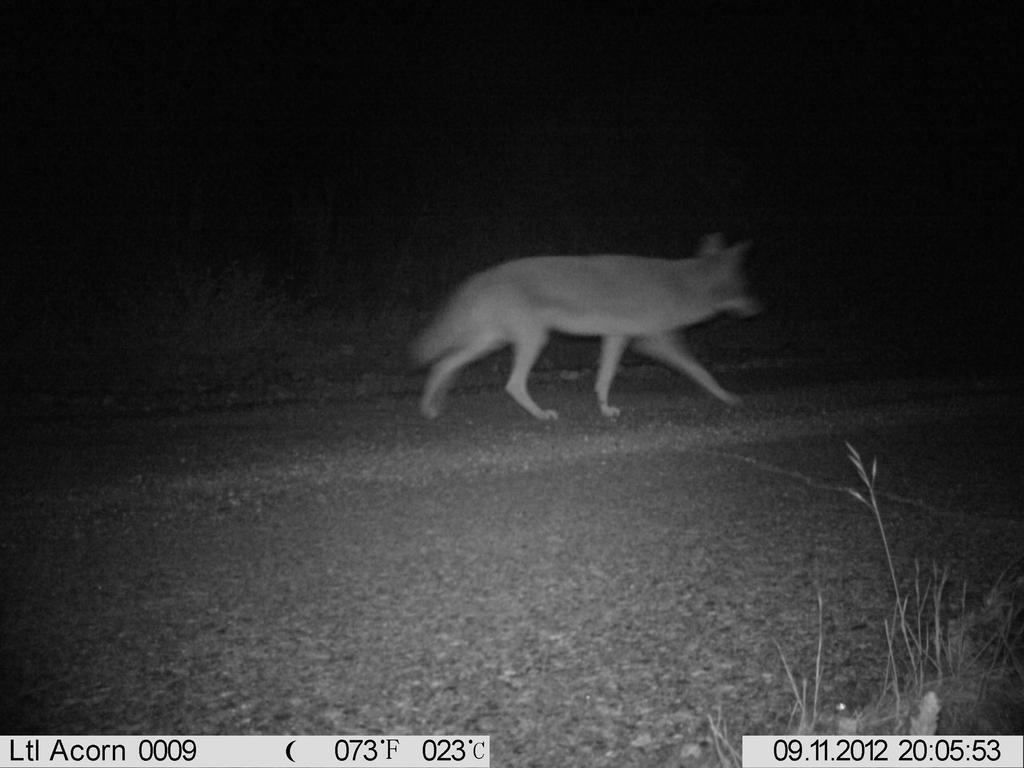coyote: (399, 208, 771, 460)
